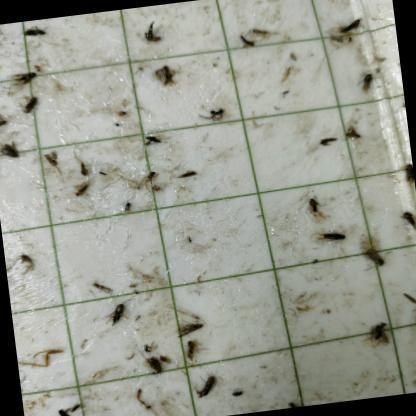prays_oleae: (364, 312, 394, 356), (190, 366, 221, 408), (172, 304, 206, 342), (317, 219, 353, 252), (330, 10, 363, 41), (355, 68, 380, 108), (364, 239, 390, 272), (302, 185, 325, 222), (153, 60, 176, 96), (0, 134, 24, 168), (105, 304, 132, 333), (18, 89, 44, 119), (395, 199, 416, 235), (314, 128, 341, 156), (140, 353, 164, 384), (9, 64, 37, 90), (20, 21, 48, 46), (203, 100, 228, 128), (40, 146, 63, 176), (174, 161, 200, 186), (88, 274, 115, 298), (398, 154, 415, 192), (250, 18, 274, 44), (141, 22, 162, 50), (142, 130, 169, 150), (399, 285, 416, 315), (157, 344, 174, 372), (237, 30, 255, 56), (283, 394, 316, 408), (0, 102, 14, 134), (16, 249, 36, 271), (184, 336, 202, 360), (70, 183, 93, 199), (66, 397, 84, 416), (53, 399, 73, 416)
